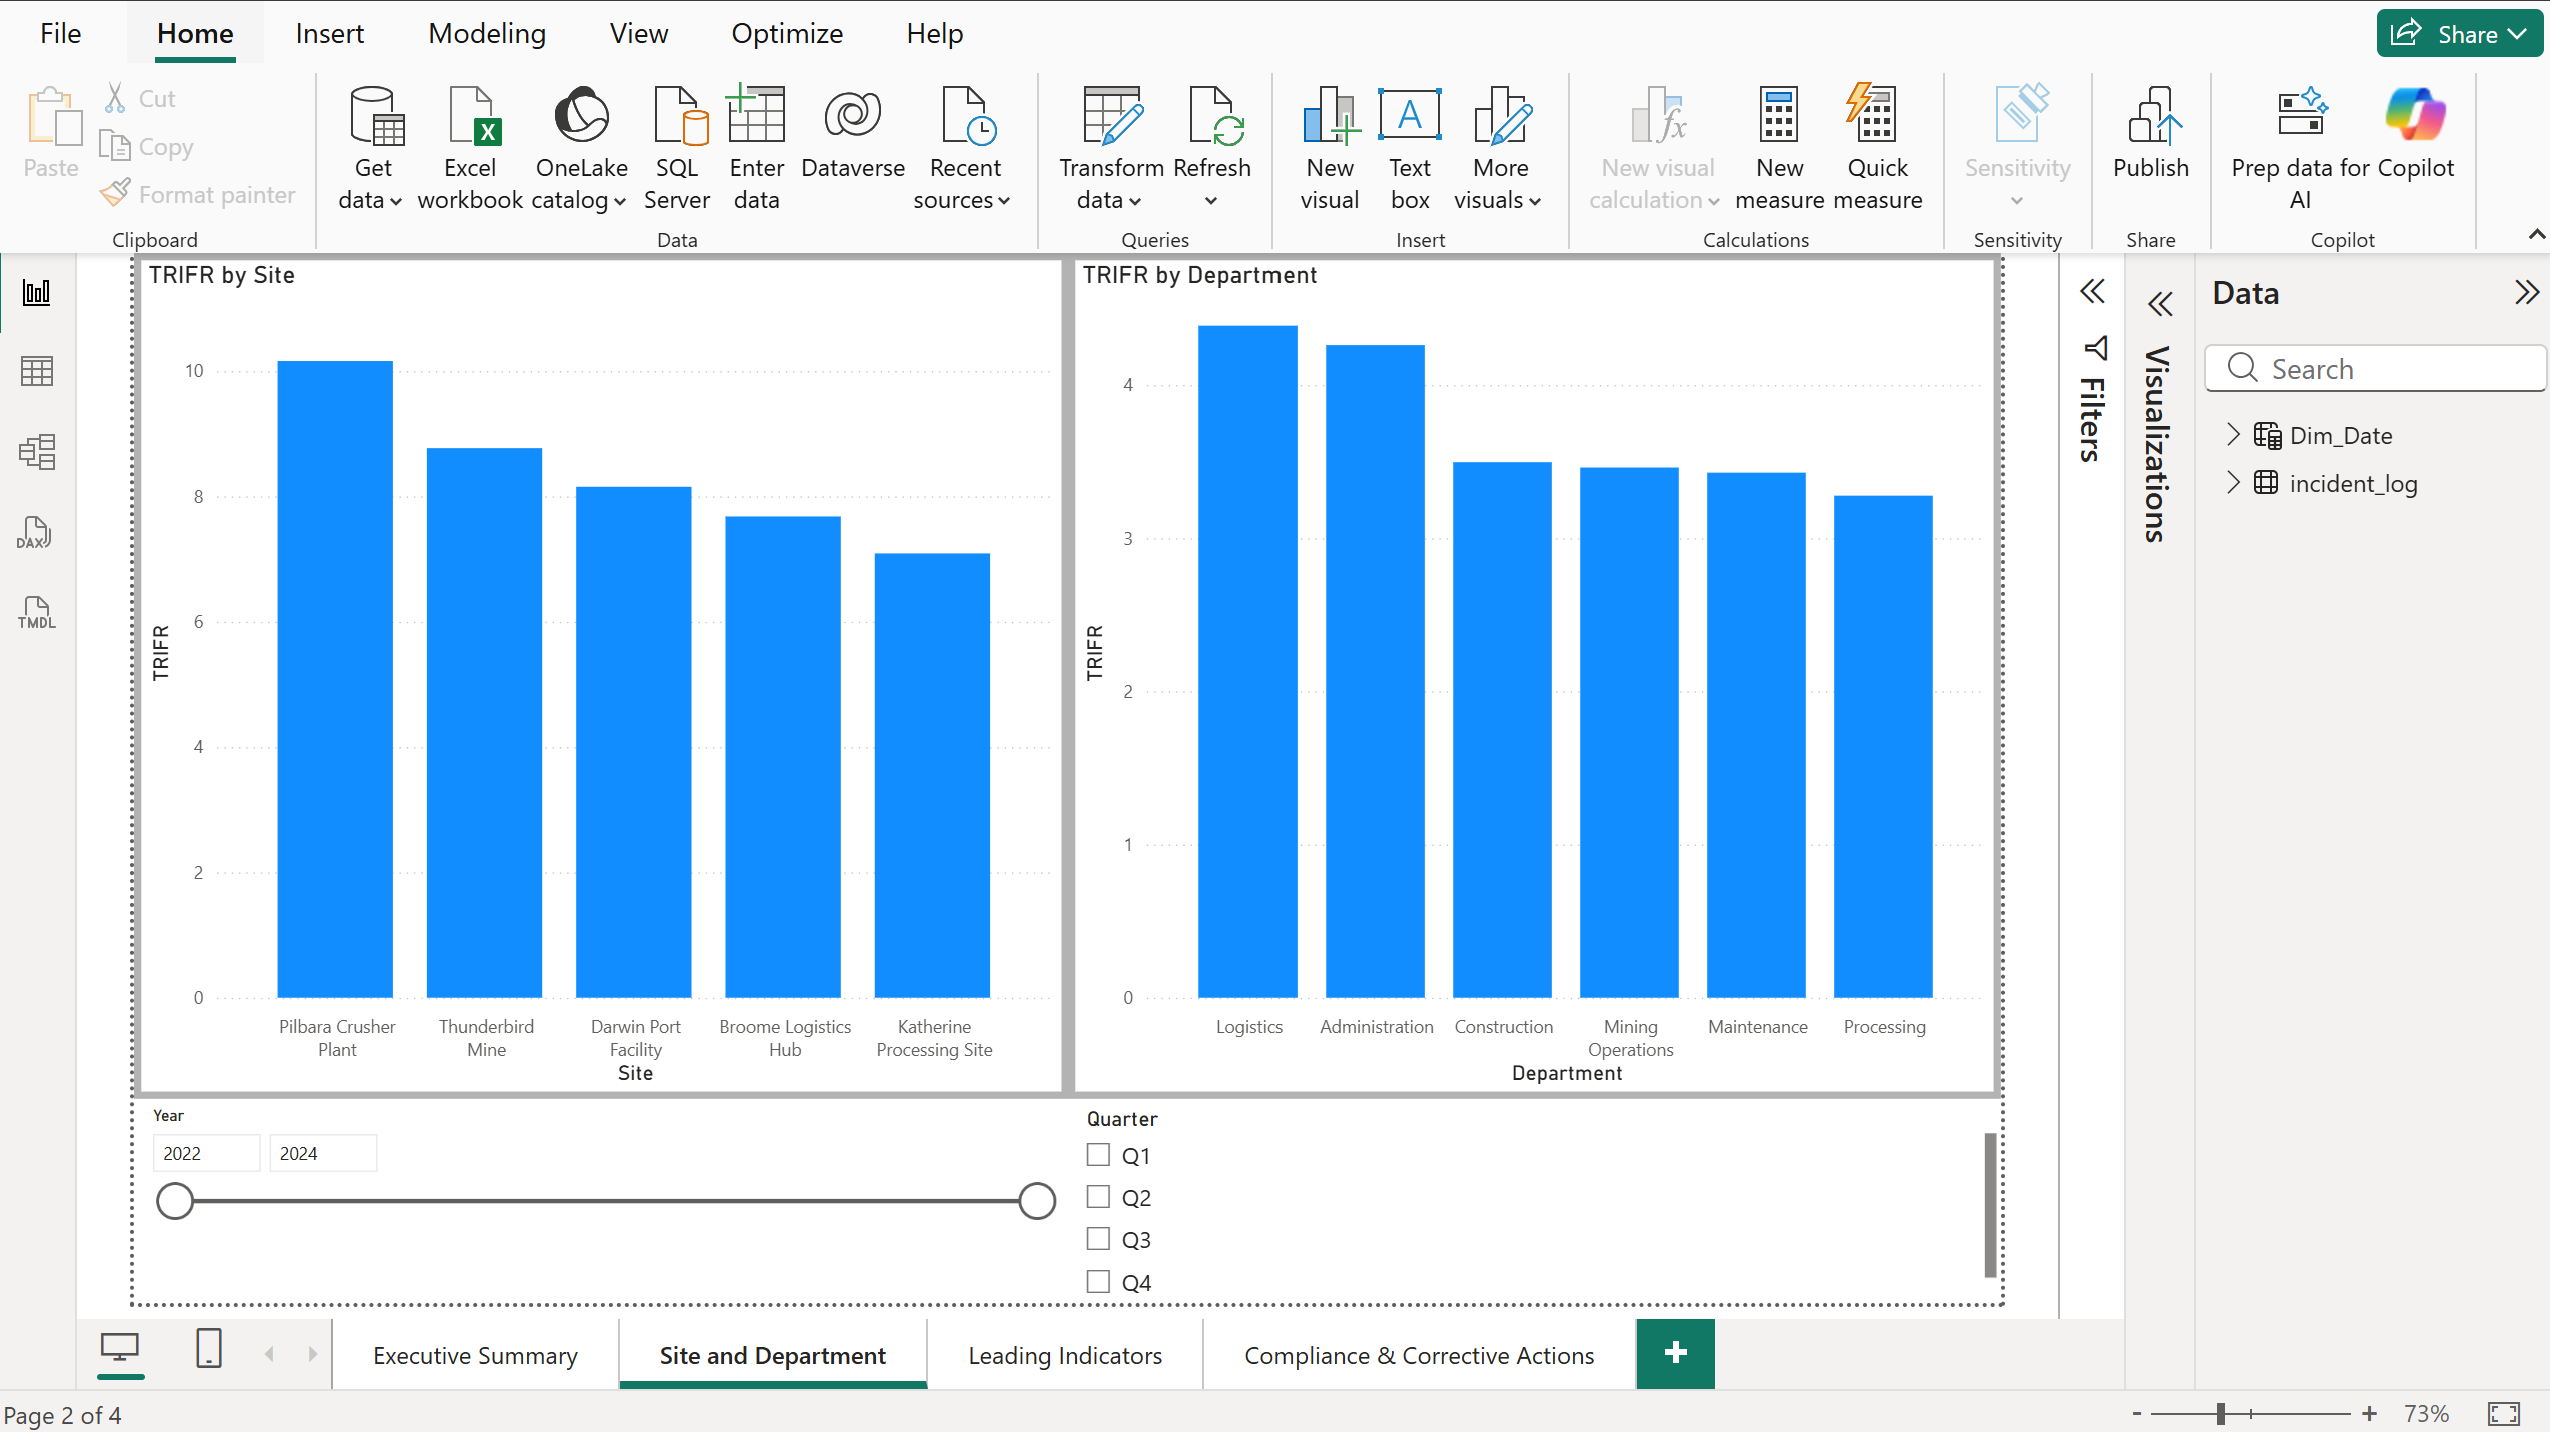

What the dashboard file says about the page in this screenshot:
{"tool":"powerbi","page":{"name":"Site and Department","canvas":[1280,720],"ordinal":1},"visuals":[{"type":"clusteredColumnChart","fields":{"Category":["incident_log.Site"],"Y":["Dim_Date.TRIFR"]},"box":[0,0,640.8,580.2],"z":0},{"type":"clusteredColumnChart","fields":{"Y":["Dim_Date.TRIFR"],"Category":["incident_log.Department"]},"box":[640.8,0,639.2,580.2],"z":1000},{"type":"slicer","fields":{"Values":["incident_log.Year"]},"box":[0,580.2,640.8,139.3],"z":2000},{"type":"slicer","fields":{"Values":["incident_log.Quarter"]},"box":[640.8,580.2,640.8,139.3],"z":3000}]}

Visuals, with their boxes on the page's 1280x720 design canvas (x1, y1, x2, y2). These are canvas units, not pixel positions in the 2550x1432 screenshot, which may show the page scaled, cropped or inside an application window:
clusteredColumnChart - incident_log.Site x Dim_Date.TRIFR: bbox(0, 0, 641, 580)
clusteredColumnChart - Dim_Date.TRIFR x incident_log.Department: bbox(641, 0, 1280, 580)
slicer - incident_log.Year: bbox(0, 580, 641, 720)
slicer - incident_log.Quarter: bbox(641, 580, 1282, 720)
